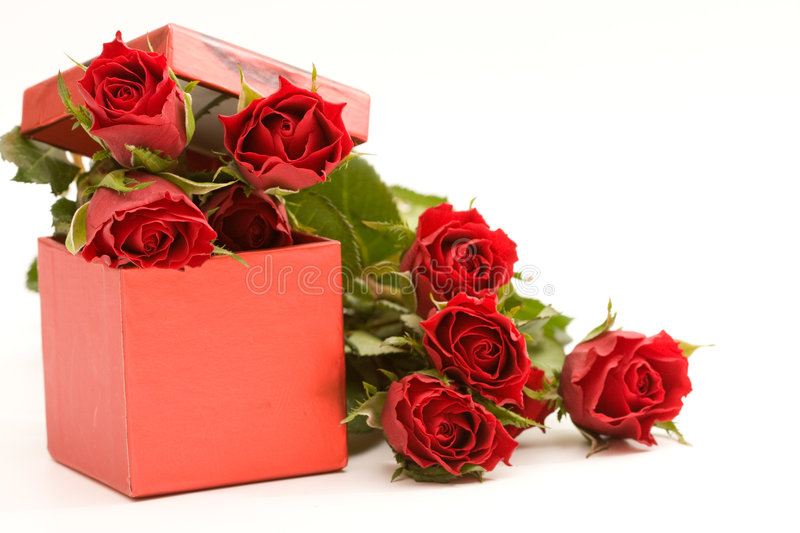RedRose: (356, 367, 516, 477), (555, 322, 692, 444), (70, 44, 206, 154), (387, 304, 535, 396), (382, 212, 514, 308), (78, 189, 219, 273), (250, 85, 350, 194)
